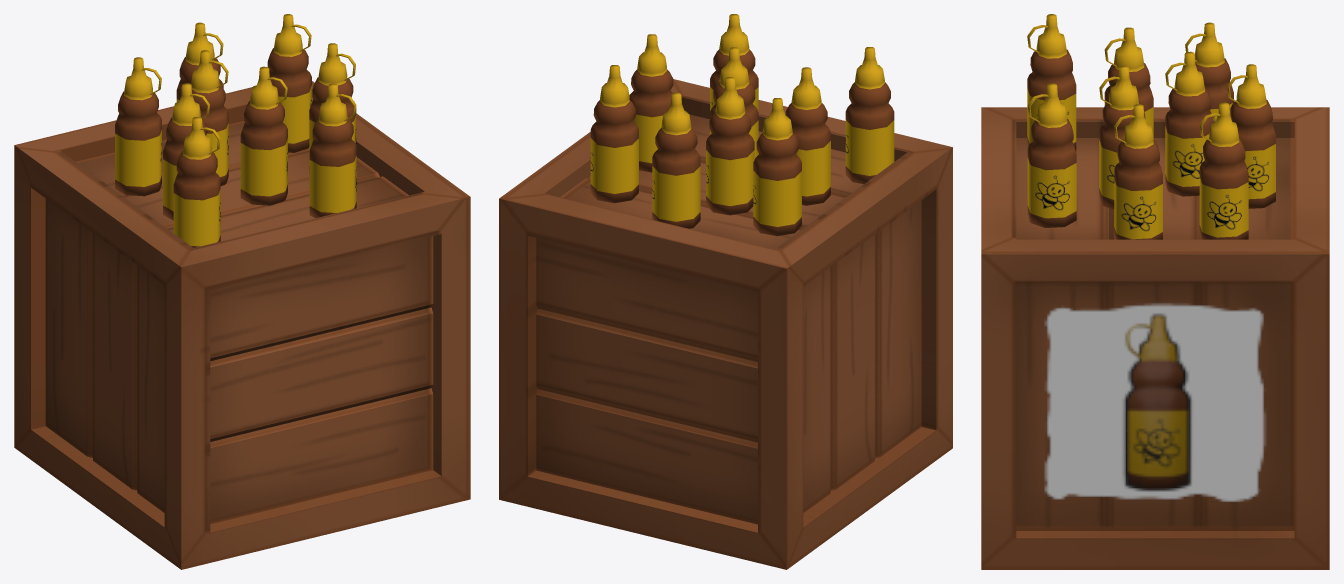
File: caixa mel (1).fbx
3 renders of one model, left to right at view 1: azimuth 30°, elevation 25°; view 2: azimuth 150°, elevation 25°; view 3: azimuth 270°, elevation 25°, orthographic. The views are drawn at different scales.
Visible parts, largest first — view 1: Caixas.007; view 2: Caixas.007; view 3: Caixas.007.
Part boxes in pixels (box(x1,y1,x2,y2)): Caixas.007: box(14, 14, 470, 569); Caixas.007: box(499, 14, 952, 569); Caixas.007: box(981, 14, 1329, 569).
Size of the model in its own units: 200 by 274 by 200.
Materials: 2 (2 with a texture image).
